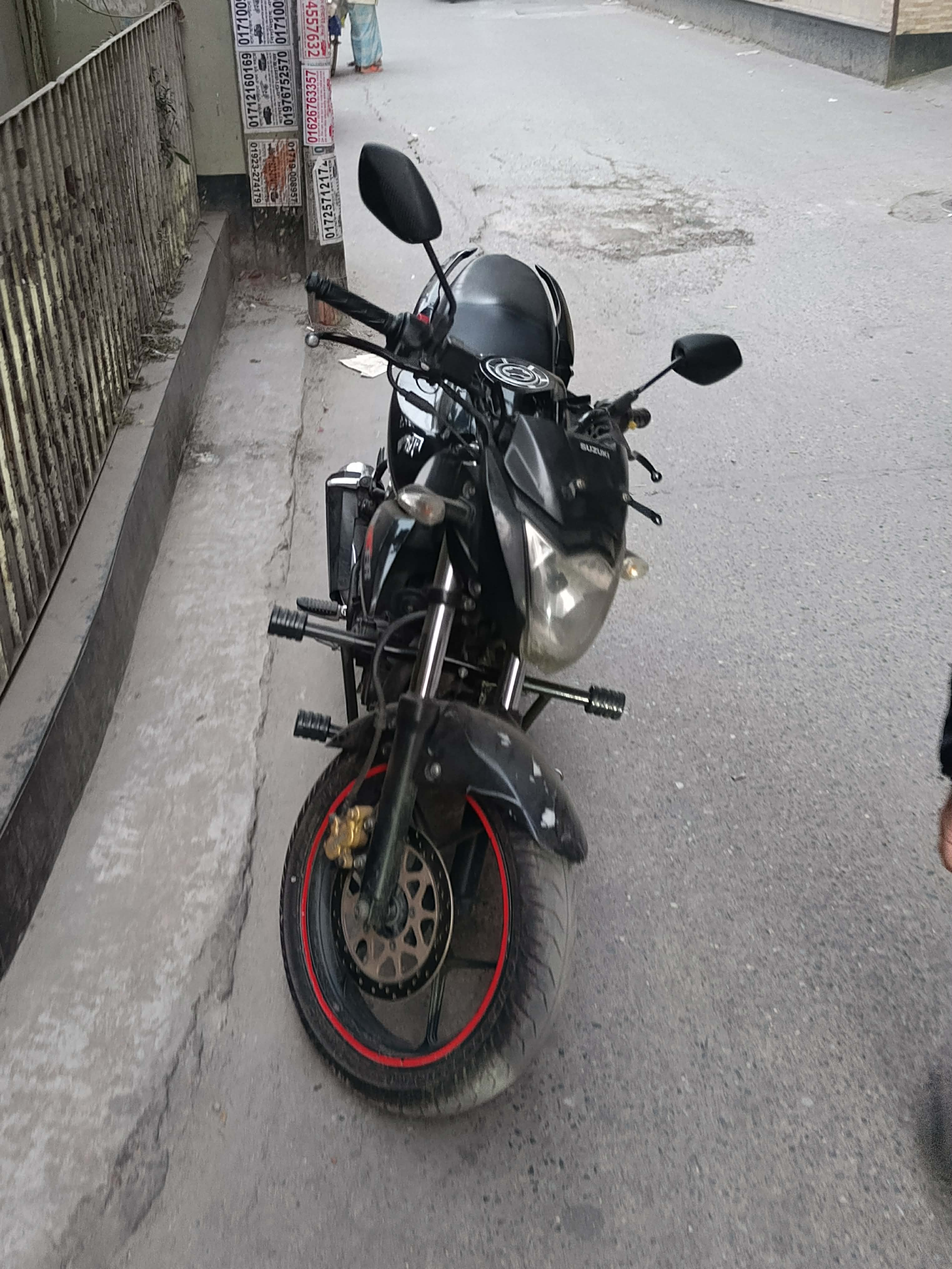Bikes: (259, 101, 764, 1122)
